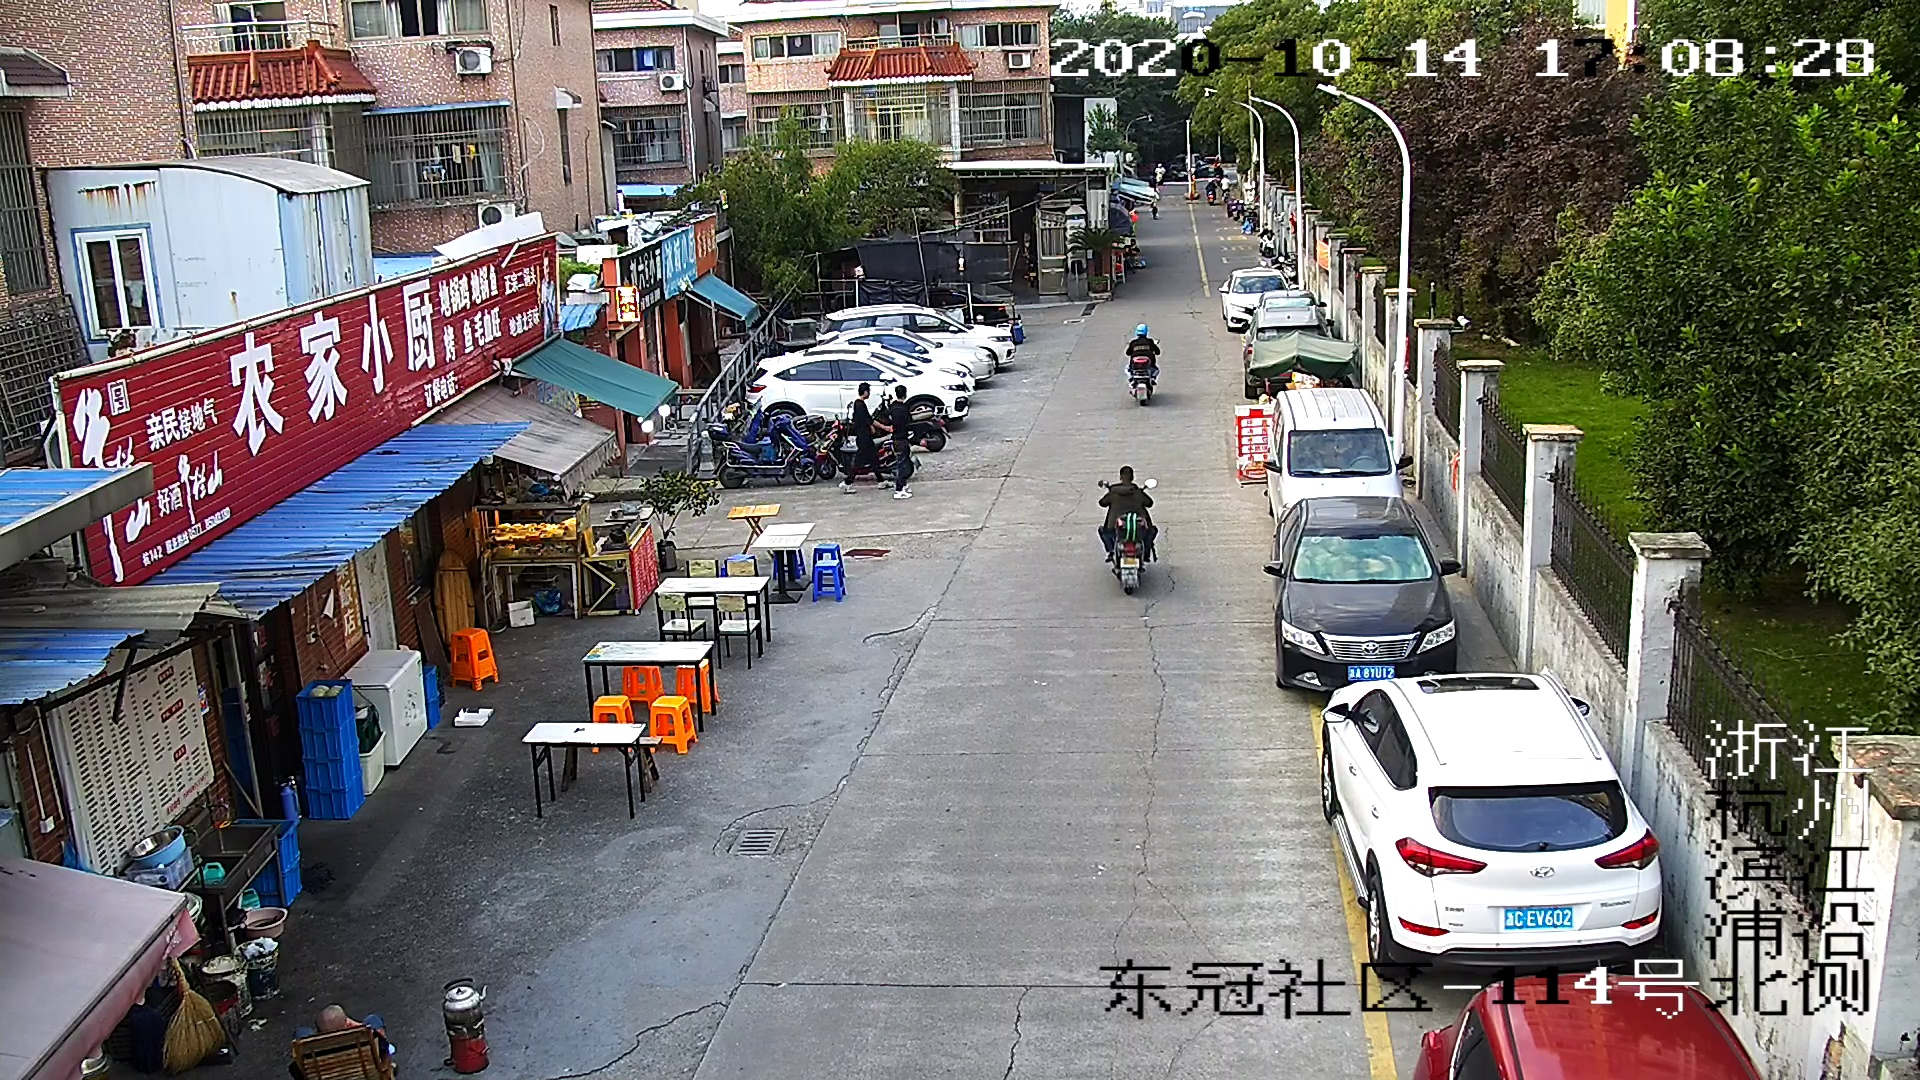chair: (560, 736, 661, 793), (711, 592, 761, 670), (448, 626, 501, 692), (649, 694, 698, 756), (654, 589, 708, 641), (589, 694, 636, 752), (675, 658, 720, 712), (621, 665, 665, 709), (811, 559, 848, 603), (811, 542, 847, 580)
table: (578, 637, 717, 733), (520, 721, 647, 820), (651, 575, 771, 655), (749, 520, 815, 603), (725, 502, 783, 559)
table_chair: (578, 636, 723, 757), (517, 717, 662, 822), (651, 553, 774, 673), (748, 520, 849, 604)
umbrella: (1247, 328, 1358, 376)
